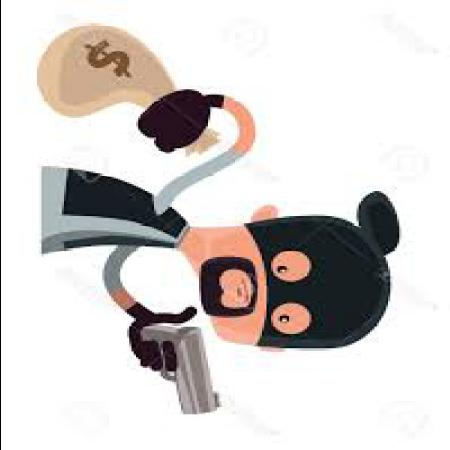Pistol: (137, 322, 225, 415)
